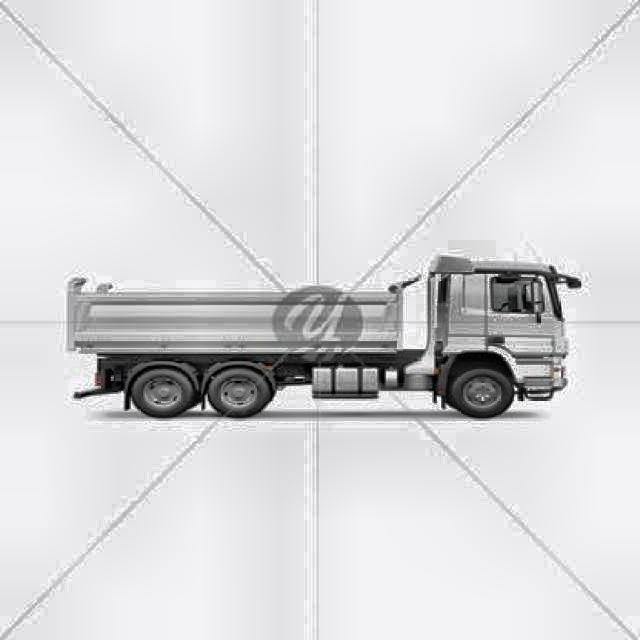dump_truck: (57, 242, 585, 428), (70, 260, 572, 408)
